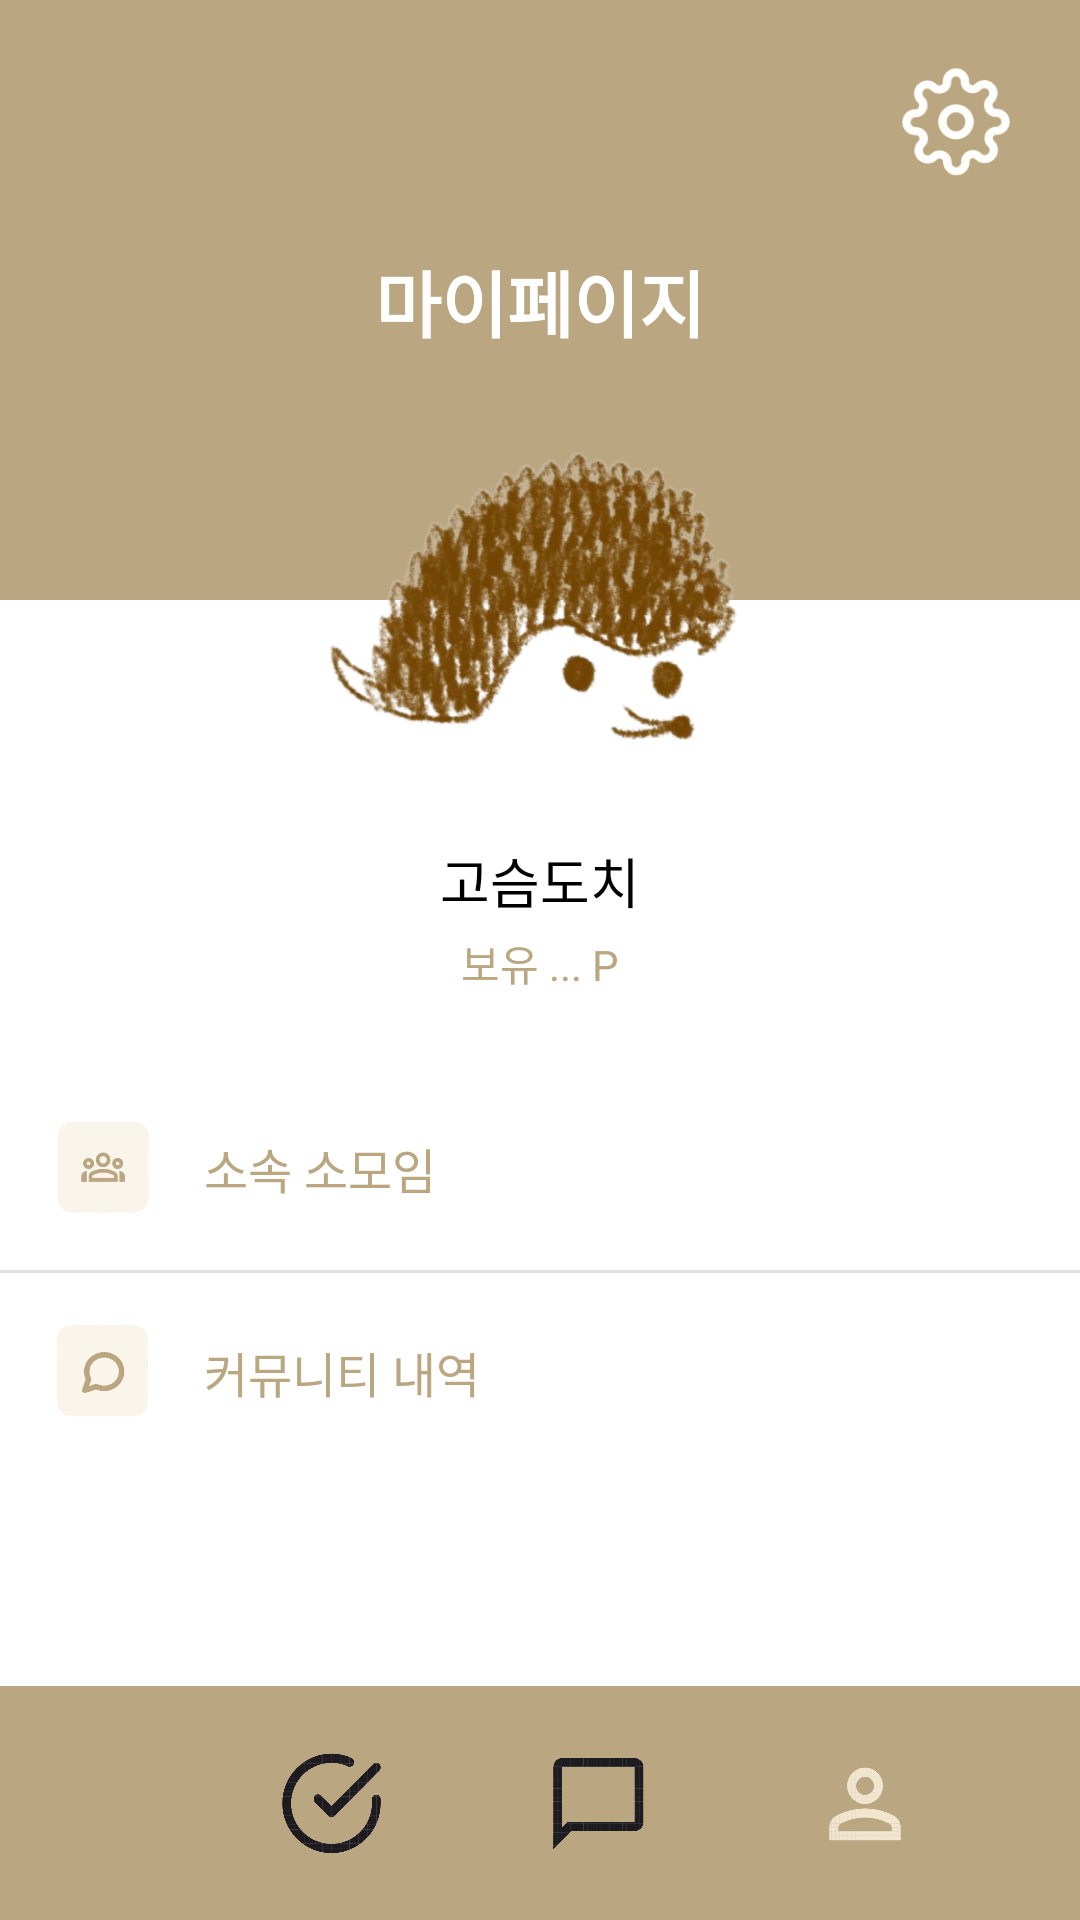

Icons on this 1080px x 1920px Android screen, each with the point to tap as (x=x, y=y):
chat: (x=598, y=1803)
check: (x=331, y=1803)
mypage press: (x=865, y=1804)
